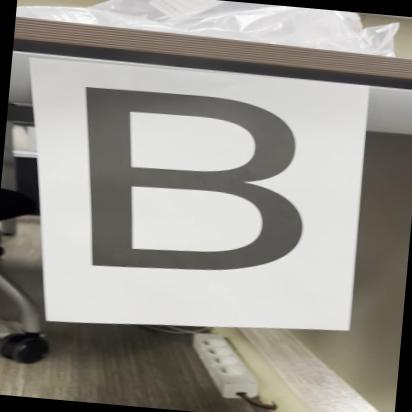seat: (38, 70, 344, 321)
